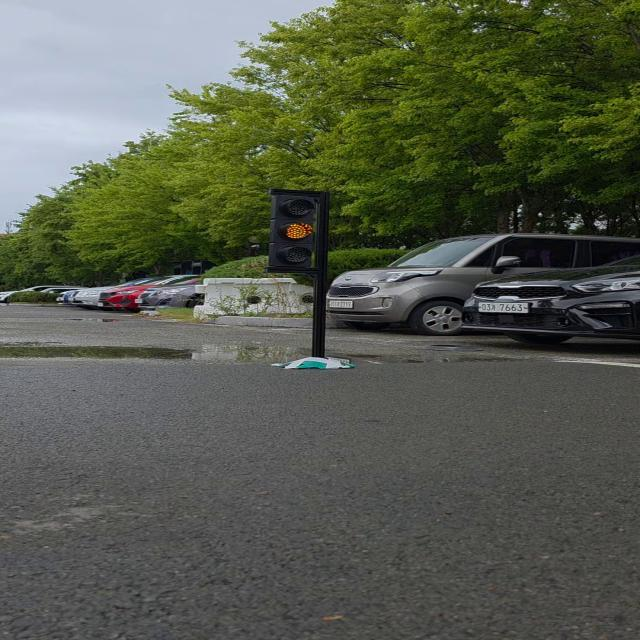yellow: (256, 183, 334, 276)
